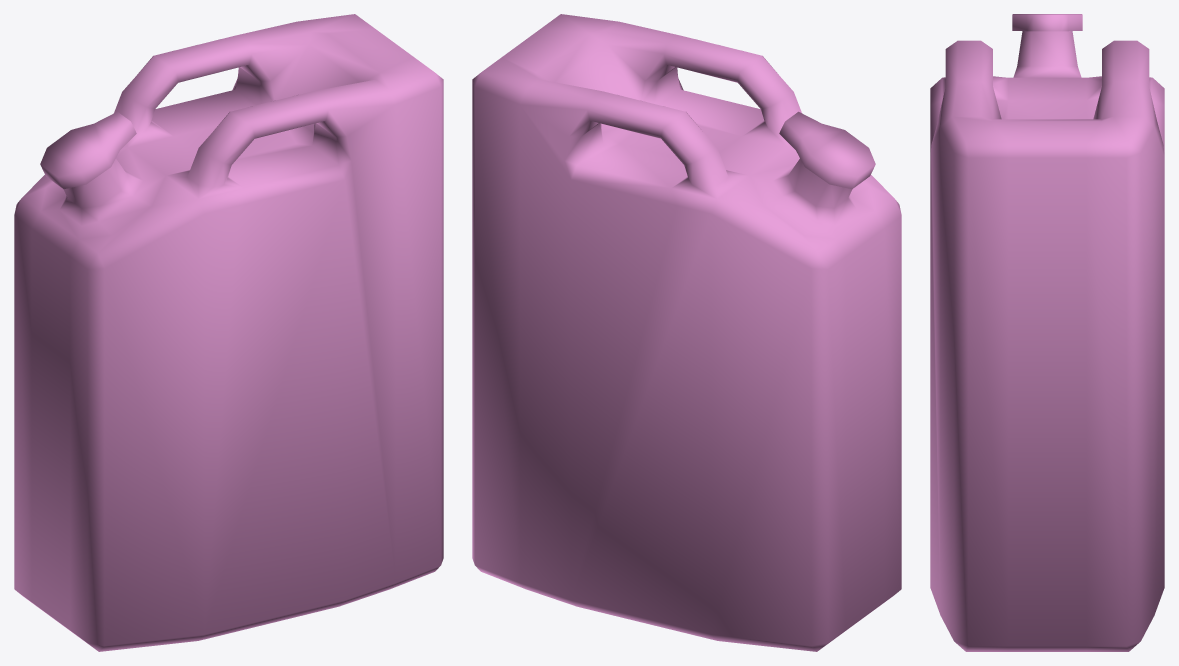
Rendered from jerrycanLow.FBX.
The picture shows the model from 3 angles, left to right: view 1: azimuth 30°, elevation 25°; view 2: azimuth 150°, elevation 25°; view 3: azimuth 270°, elevation 25°; orthographic projection. The views are drawn at different scales.
Visible parts, largest first — view 1: jerrycan; view 2: jerrycan; view 3: jerrycan.
Part boxes in pixels (x1,y1,x2,y2): jerrycan: [14, 14, 443, 651]; jerrycan: [472, 14, 901, 651]; jerrycan: [930, 14, 1164, 651].
Size of the model in its own units: 22.51 by 30.39 by 12.57.
